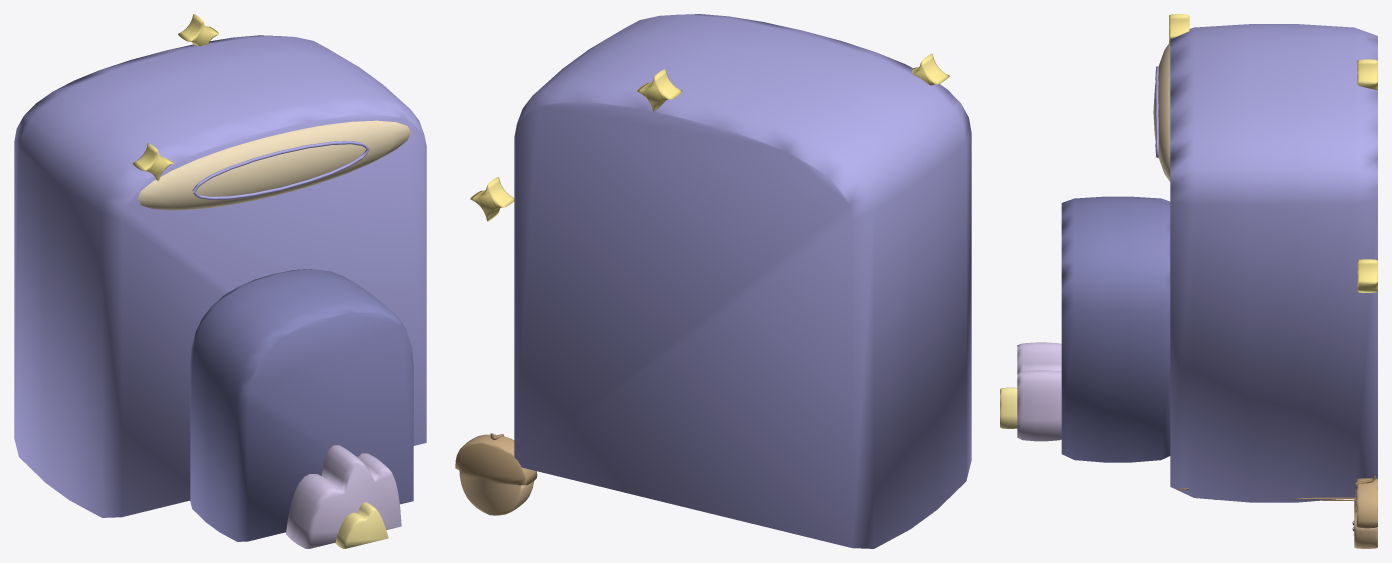
Rendered from decor_6_star.glb.
3 renders of one model, left to right at view 1: azimuth 30°, elevation 25°; view 2: azimuth 150°, elevation 25°; view 3: azimuth 270°, elevation 25°, orthographic. The views are drawn at different scales.
Parts seen in each view (by area): view 1: decor_6_star; view 2: decor_6_star; view 3: decor_6_star.
Boxes of the visible parts, x1,y1,x2,y2 form: decor_6_star: (14,14,426,548); decor_6_star: (455,14,971,548); decor_6_star: (1000,14,1377,548).
Bounding box in the file's own units: 16.98 × 19.03 × 15.6.
